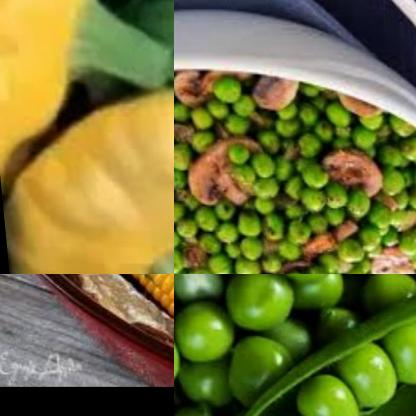corn: (0, 274, 174, 385)
peas: (174, 274, 416, 416), (239, 98, 344, 198), (347, 335, 416, 416), (372, 137, 416, 249), (174, 210, 283, 250), (275, 192, 347, 247), (327, 116, 395, 161), (358, 225, 416, 274), (303, 374, 369, 416), (174, 86, 210, 145), (393, 303, 416, 390)
squash-patisson: (0, 77, 174, 274), (0, 0, 116, 187)
